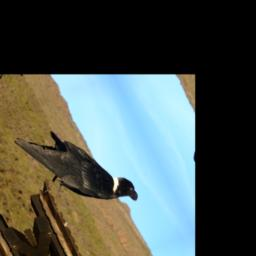Crow: (13, 108, 144, 230)
